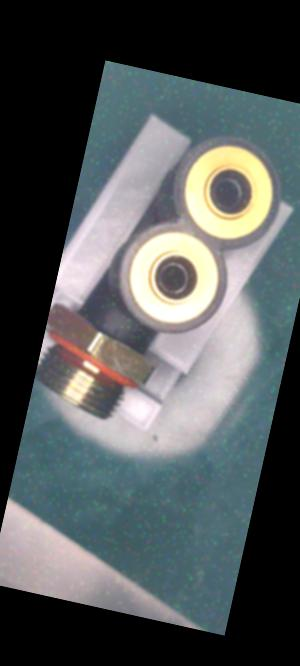craze: (106, 319, 127, 342)
